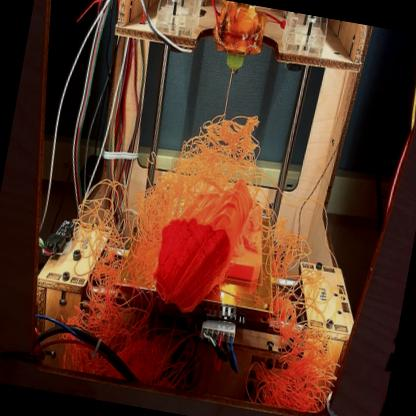fail: (170, 107, 267, 198), (259, 319, 331, 416), (75, 276, 169, 349), (67, 181, 141, 273), (252, 215, 327, 301)
